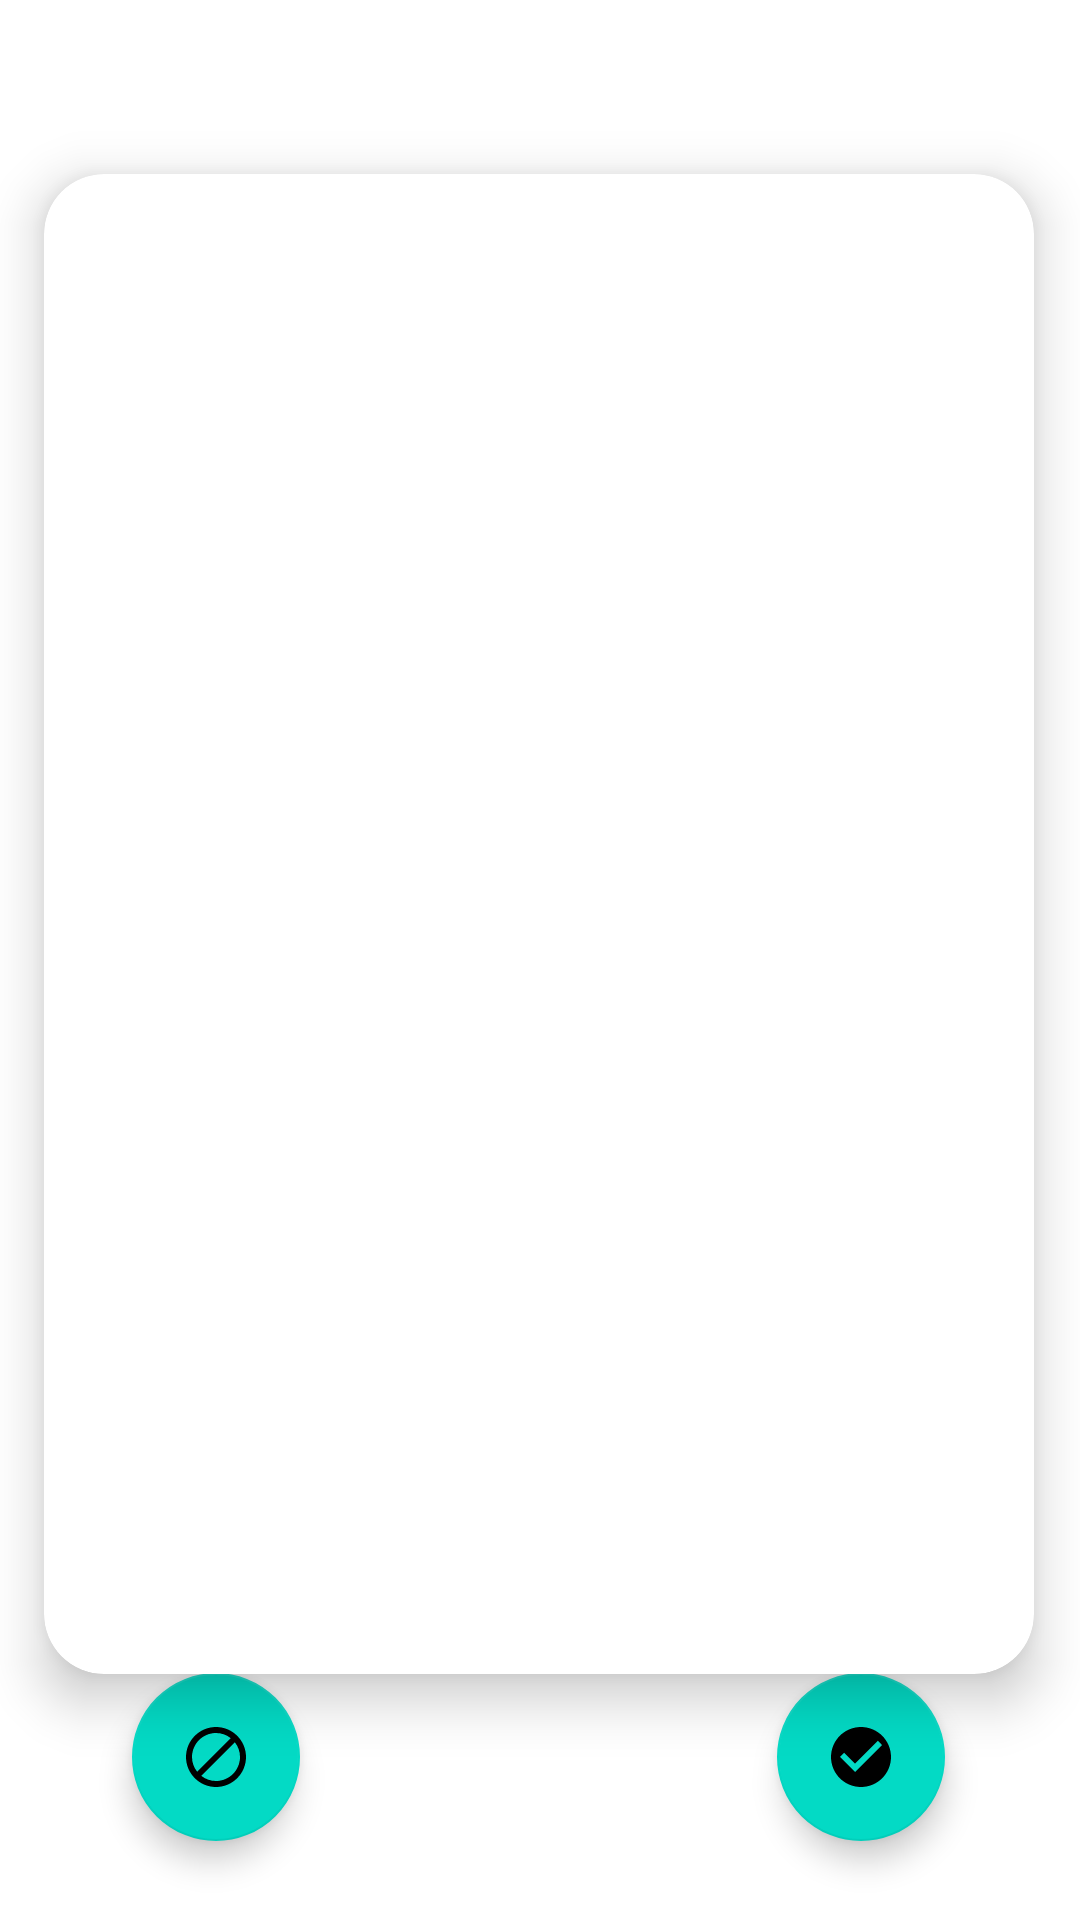

Icons on this 1080×1920 Android screen, each with its box as [x1,y1,x2,y2]:
check circle: [777,1674,945,1841]
do not disturb: [132,1674,300,1841]
